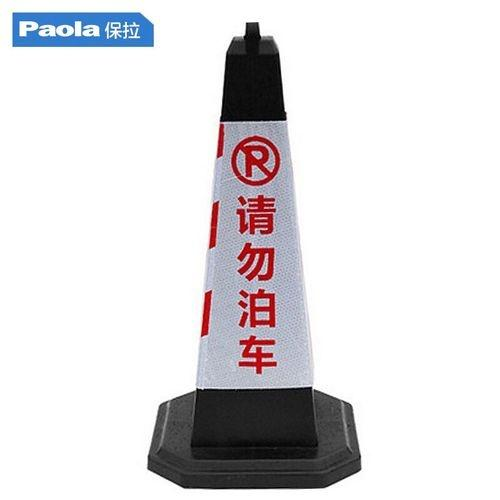cone_barrel: (151, 25, 350, 481)
